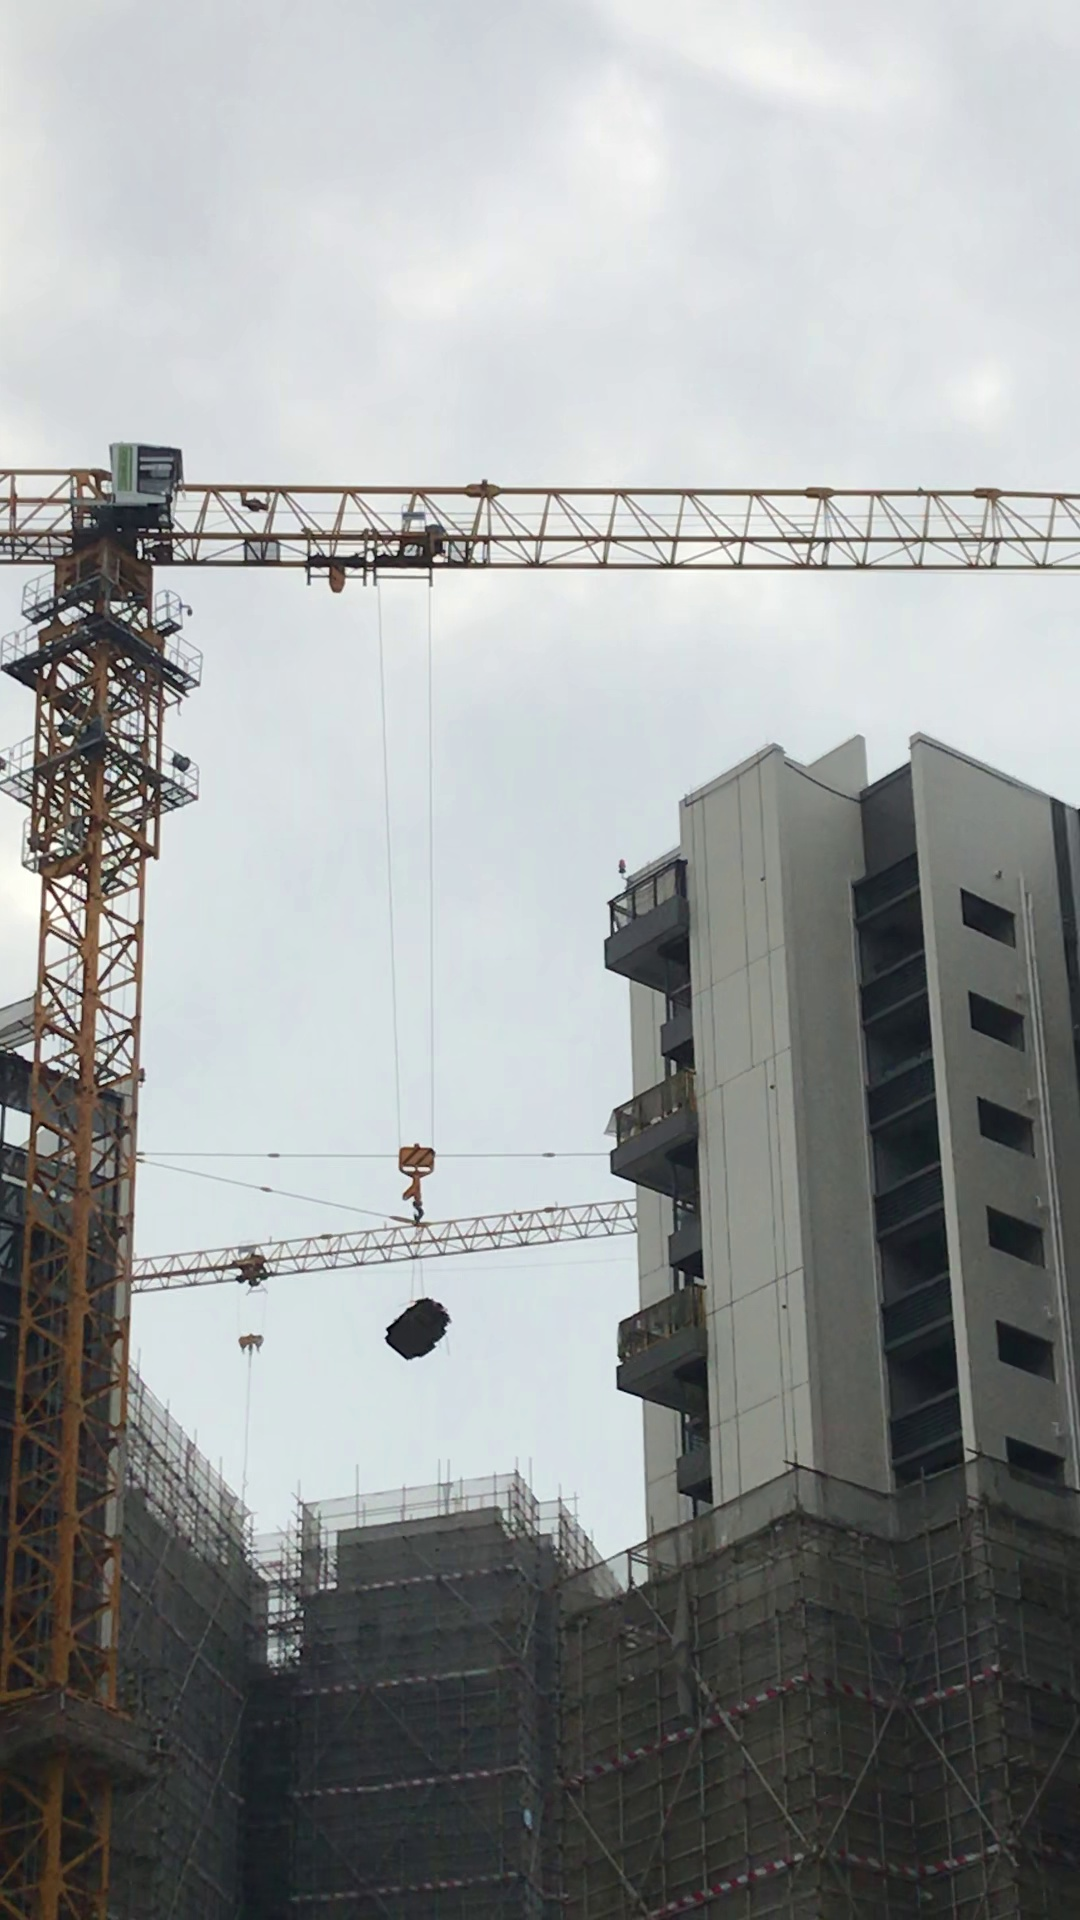board: (376, 1296, 454, 1367)
hook: (396, 1145, 440, 1224), (236, 1333, 269, 1354)
